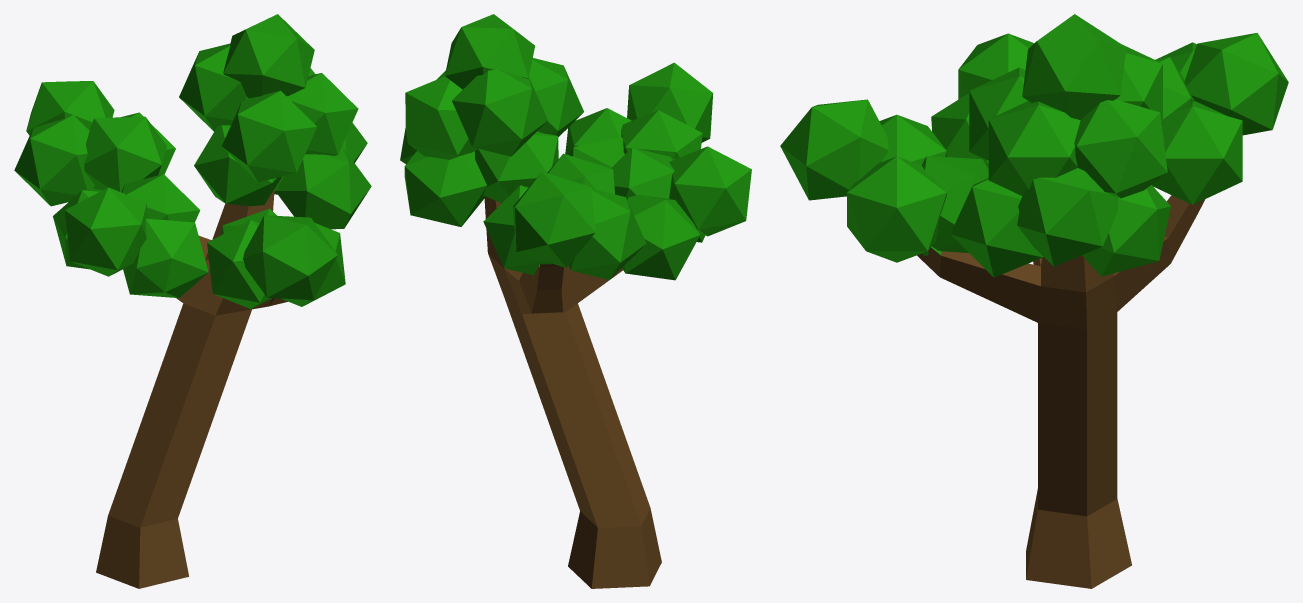
File: arbol blender (1).fbx
The picture shows the model from 3 angles, left to right: view 1: azimuth 30°, elevation 25°; view 2: azimuth 150°, elevation 25°; view 3: azimuth 270°, elevation 25°; orthographic projection. The views are drawn at different scales.
Parts seen in each view (by area): view 1: Icosphere.010; view 2: Icosphere.010; view 3: Icosphere.010.
Part boxes in pixels (left/top/right/bottom): Icosphere.010: left=14, top=14, right=371, bottom=588; Icosphere.010: left=400, top=14, right=751, bottom=588; Icosphere.010: left=780, top=14, right=1288, bottom=588.
Bounding box in the file's own units: 733 × 1148 × 866.
1 material, 1 textured.
